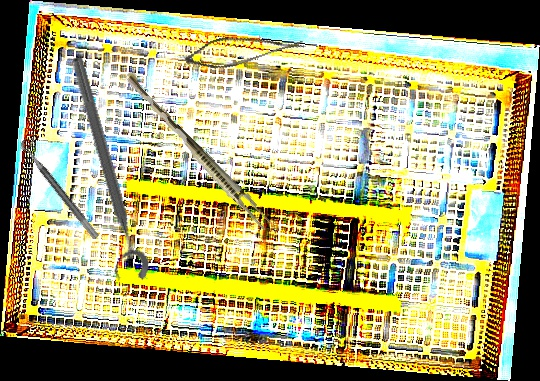Fixation Ring: (52, 53, 153, 289), (17, 132, 109, 241)
Micro Scissor: (182, 12, 306, 86)
Tissue Forceps: (118, 69, 276, 233)
